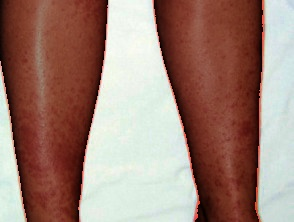SJS-TEN: (149, 0, 271, 222), (0, 0, 112, 222)
